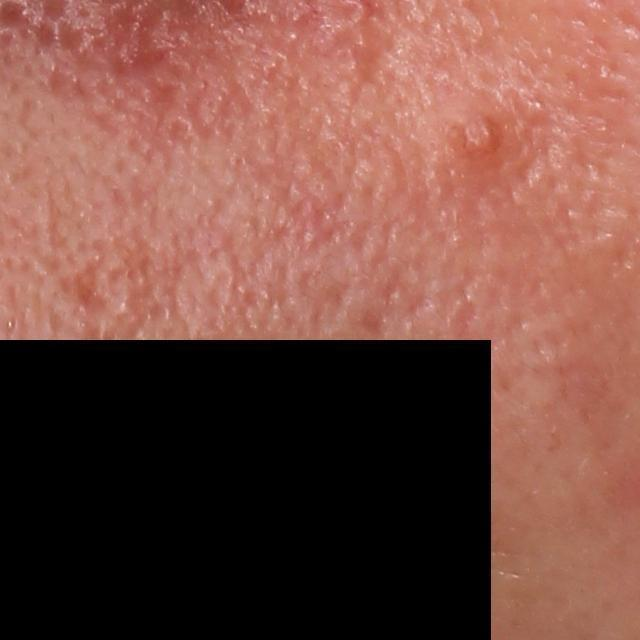atrophic_scar: (94, 216, 178, 363), (330, 18, 397, 109), (61, 233, 116, 319), (43, 186, 68, 255)
papule: (443, 110, 511, 169)
